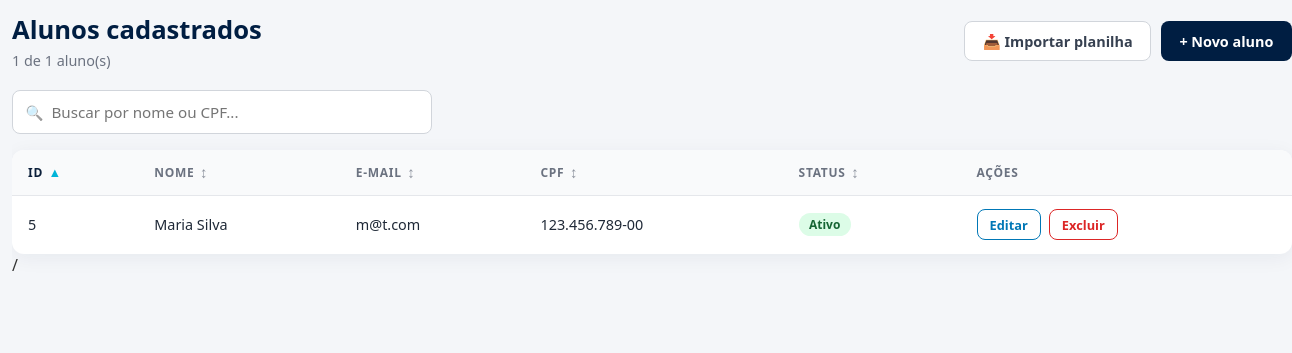
Test: lista de Alunos › erro na exclusão sem mensagem do servidor mostra um texto padrão
Click the button "Excluir" at {"x": 1083, "y": 225}, box [1049,209,1118,240]
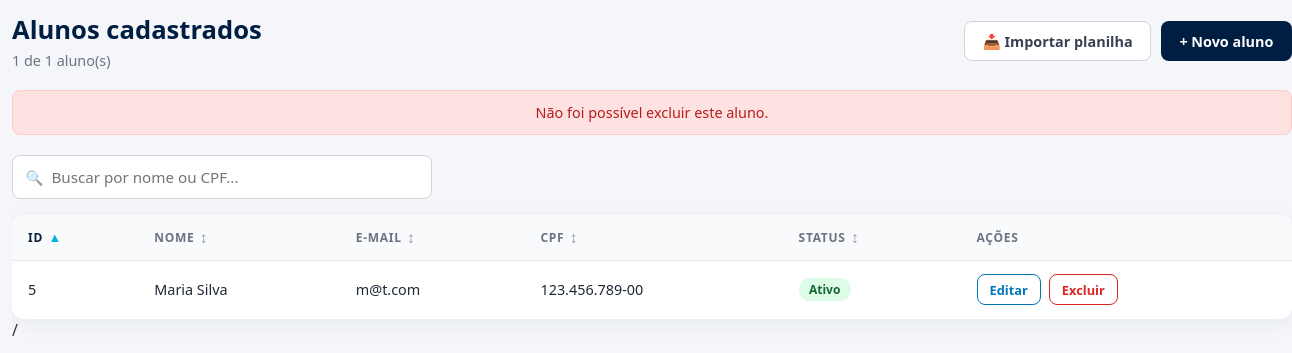
Check: the text "Não foi possível excluir este aluno." is shown, box [12,90,1291,135]
